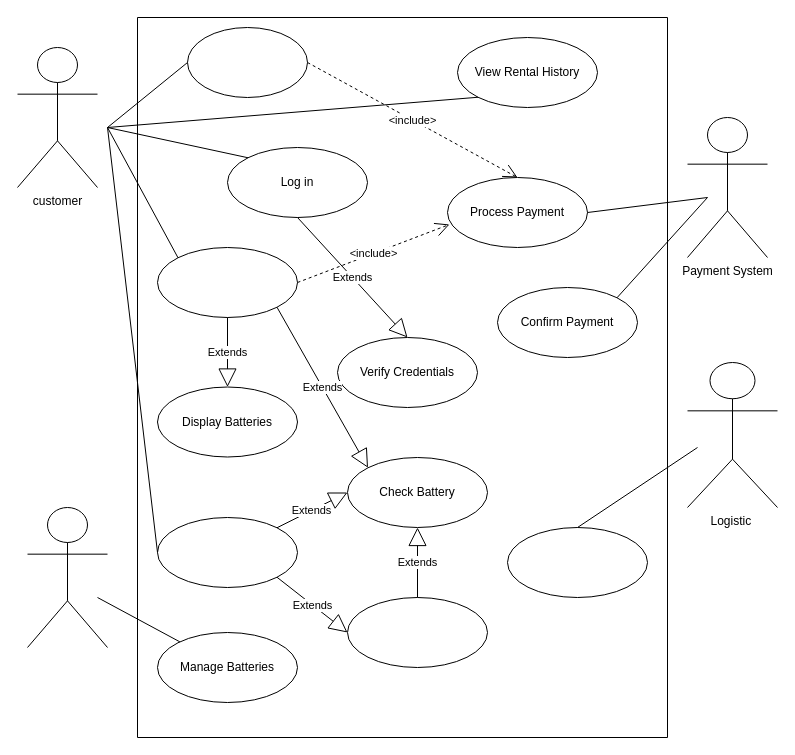
Some shapes in this 795 by 755 pixel diagram are drawn without their labels. Here are the shapes that lost their labels. From the top down, the centre of each, then its label:
At (x=247, y=62): "register".
At (x=227, y=282): "Rent Battery".
At (x=227, y=552): "Return Battery".
At (x=577, y=562): "Delivery/Collect Battery".
At (x=67, y=577): "Admin".
At (x=417, y=632): "Check Battery Status".
